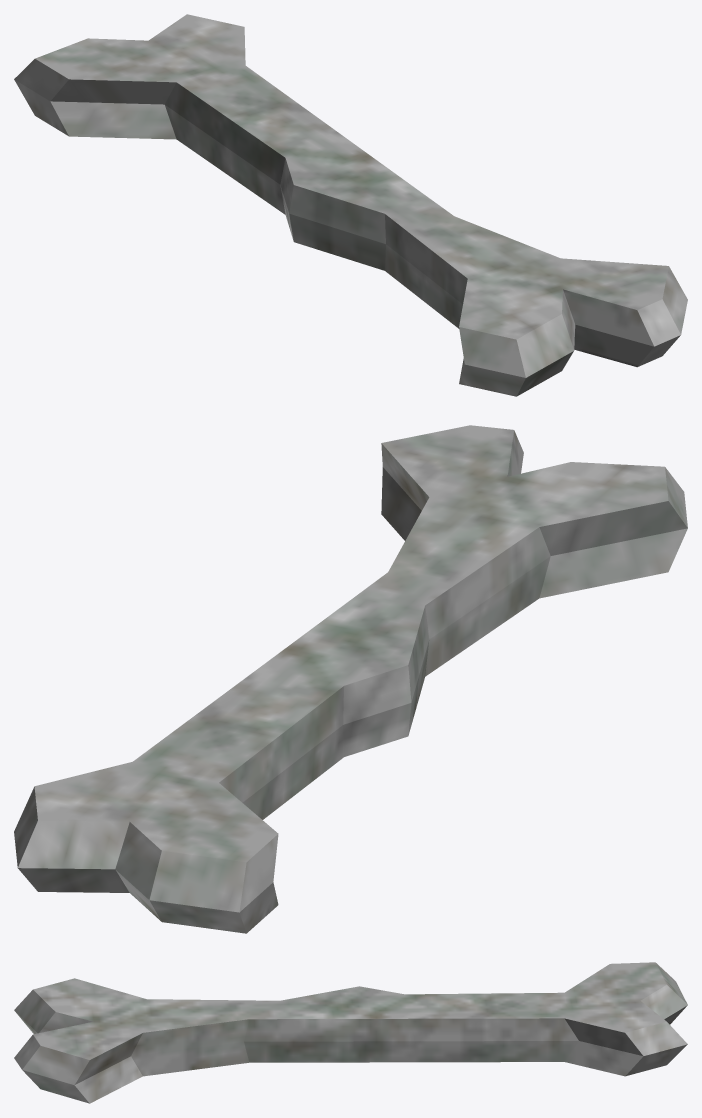
The model's file is bone.fbx.
3 renders of one model, top to bottom at view 1: azimuth 30°, elevation 25°; view 2: azimuth 150°, elevation 25°; view 3: azimuth 270°, elevation 25°, orthographic. The views are drawn at different scales.
Parts seen in each view (by area): view 1: Plane; view 2: Plane; view 3: Plane.
Boxes of the visible parts, bbox=[...] form: Plane: bbox=[14, 14, 687, 396]; Plane: bbox=[14, 425, 687, 933]; Plane: bbox=[14, 962, 687, 1103].
Size of the model in its own units: 43.84 by 8.56 by 120.
1 material, 1 textured.
